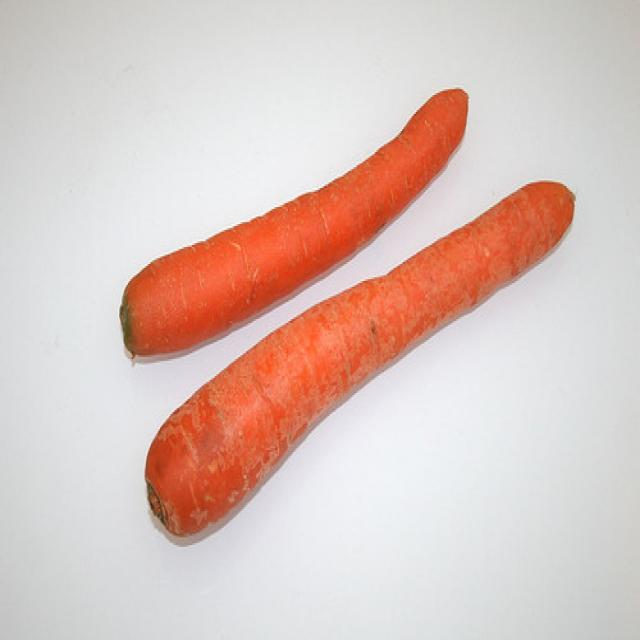Carrot: (148, 184, 576, 536), (121, 89, 472, 354)
